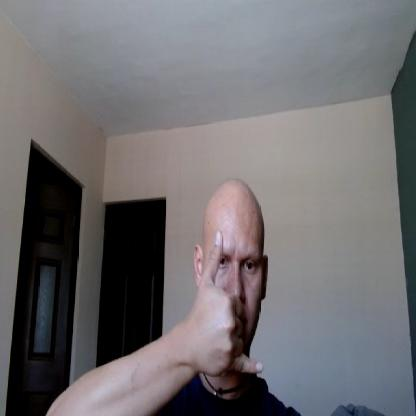Y: (194, 229, 264, 372)
